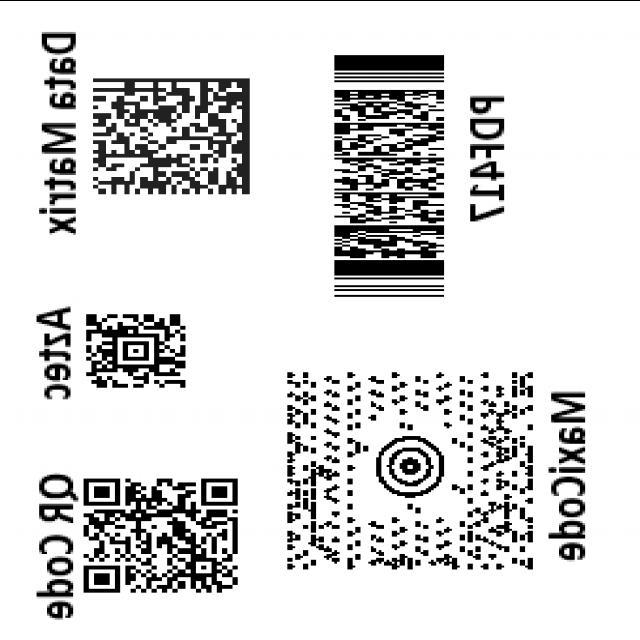Data-Matrix: (84, 72, 264, 201)
